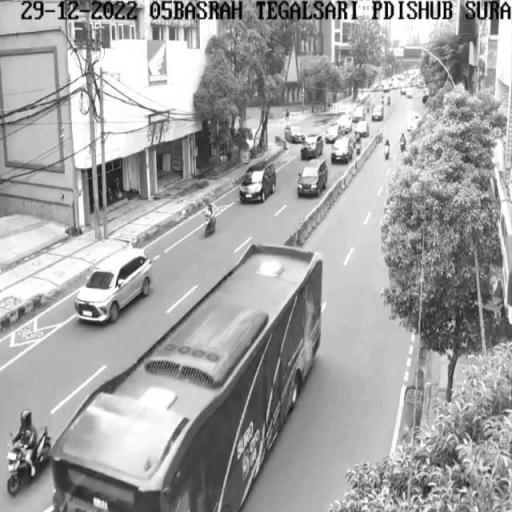bus: (52, 242, 324, 511)
car: (71, 248, 157, 325), (238, 162, 276, 206), (296, 160, 328, 198), (330, 140, 354, 164), (300, 135, 324, 158)
motorcycle: (6, 440, 54, 494), (200, 214, 219, 240)
